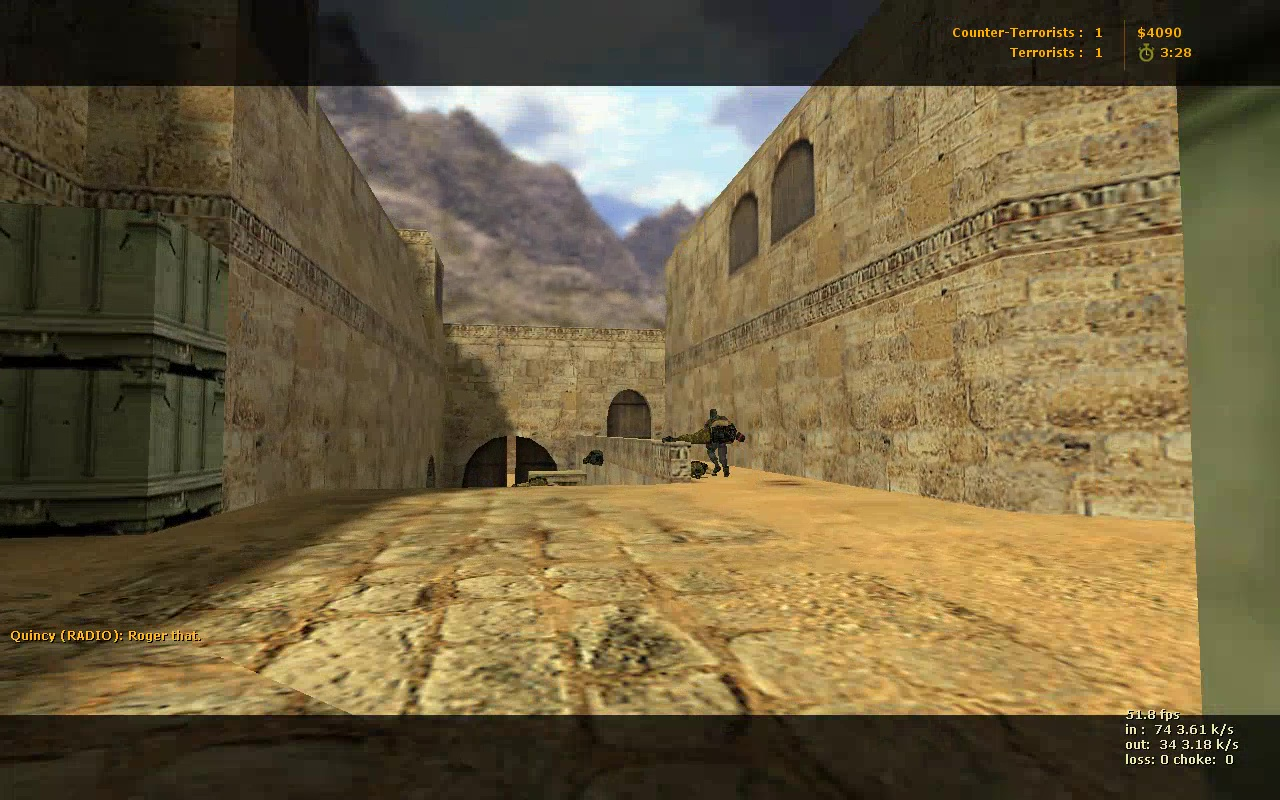ct: (705, 410, 734, 474)
dead: (665, 425, 746, 441)
